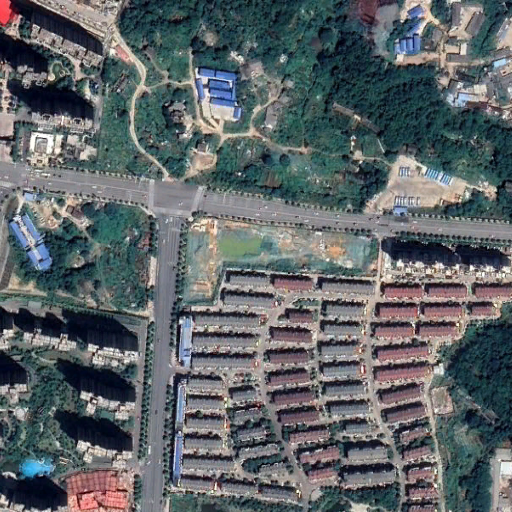cw: (182, 215, 376, 306)
